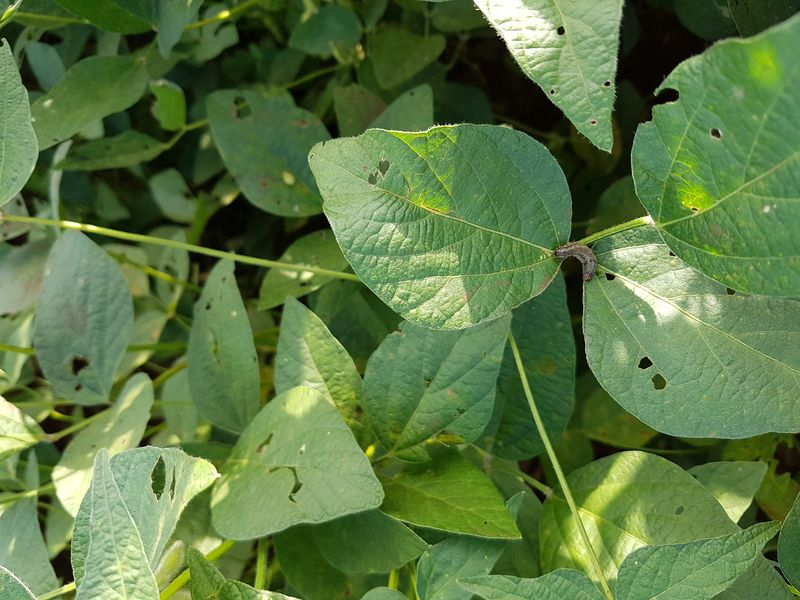Spodoptera_albula: (544, 234, 607, 292)
